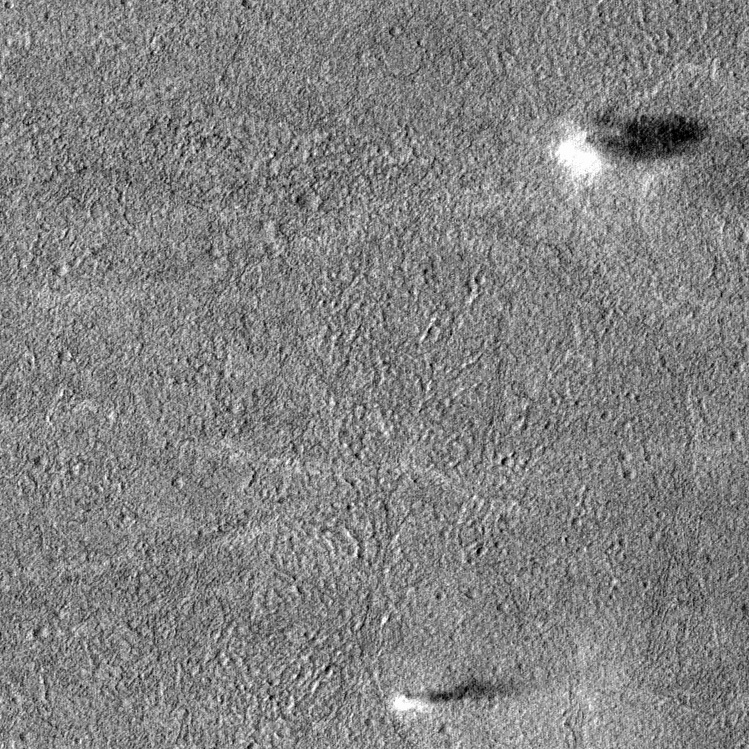dust_devil: (553, 111, 714, 182), (389, 676, 513, 715)
